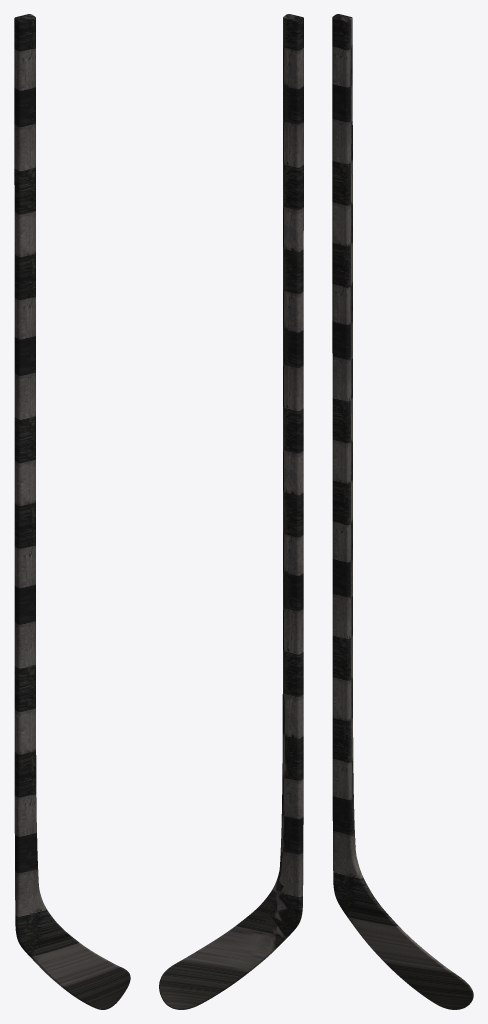
3 views of the same model, side by side, from view 1: azimuth 30°, elevation 25°; view 2: azimuth 150°, elevation 25°; view 3: azimuth 330°, elevation 25° (orthographic). The views are drawn at different scales.
Parts seen in each view (by area): view 1: geometry_0; view 2: geometry_0; view 3: geometry_0.
Boxes of the visible parts, x1=… form: geometry_0: x1=14, y1=14, x2=130, y2=1009; geometry_0: x1=159, y1=14, x2=303, y2=1009; geometry_0: x1=332, y1=14, x2=473, y2=1009.
Size of the model in its own units: 218 by 1650 by 64.27.
1 material, 1 textured.
